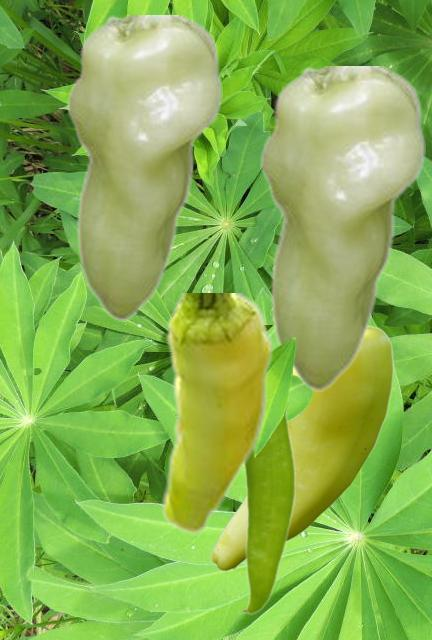green_chili: (256, 66, 424, 390), (63, 15, 221, 320), (210, 325, 393, 571), (160, 293, 273, 534), (236, 412, 294, 614)
